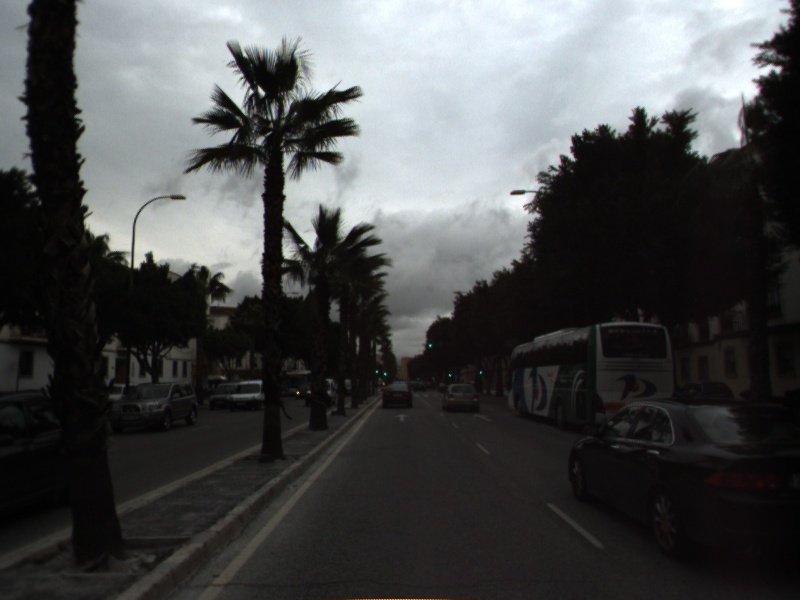STRAIGHT: (471, 411, 494, 424), (392, 411, 413, 424)
